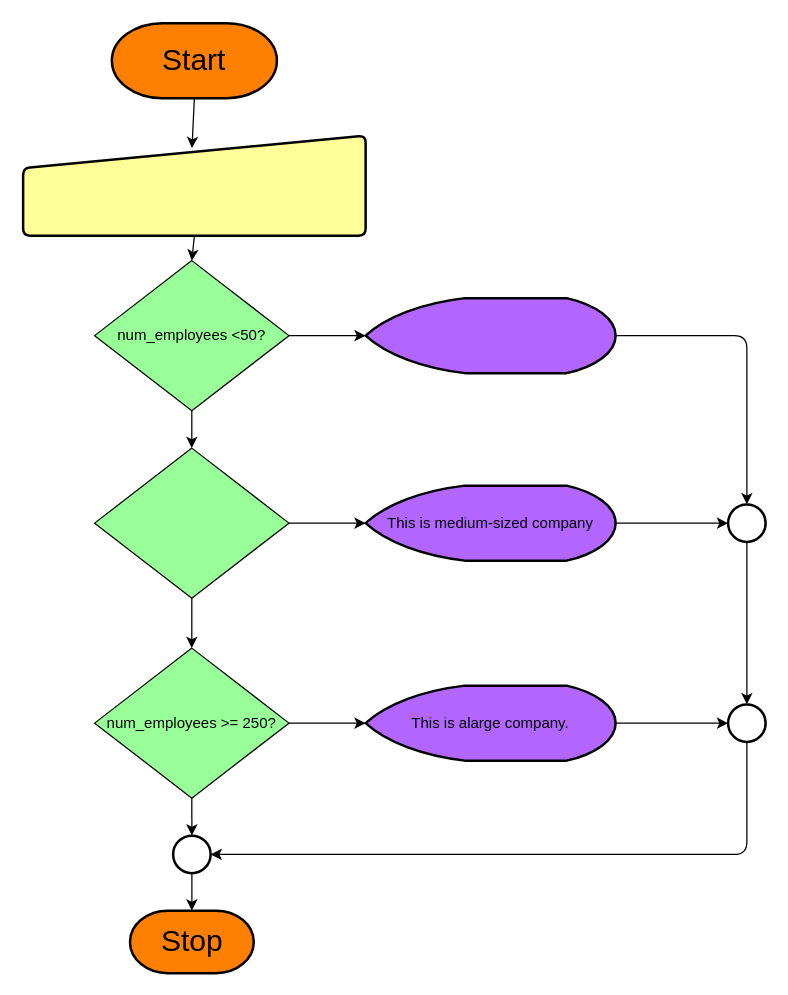
This 788x995 diagram has some shape labels left out. Here are the shapes that lost their labels. From the top down, the centre of each, then its label:
pixel 193 185: Enter the number of employees:num_employees
pixel 490 335: This is a small company
pixel 191 522: num_employees <250?
